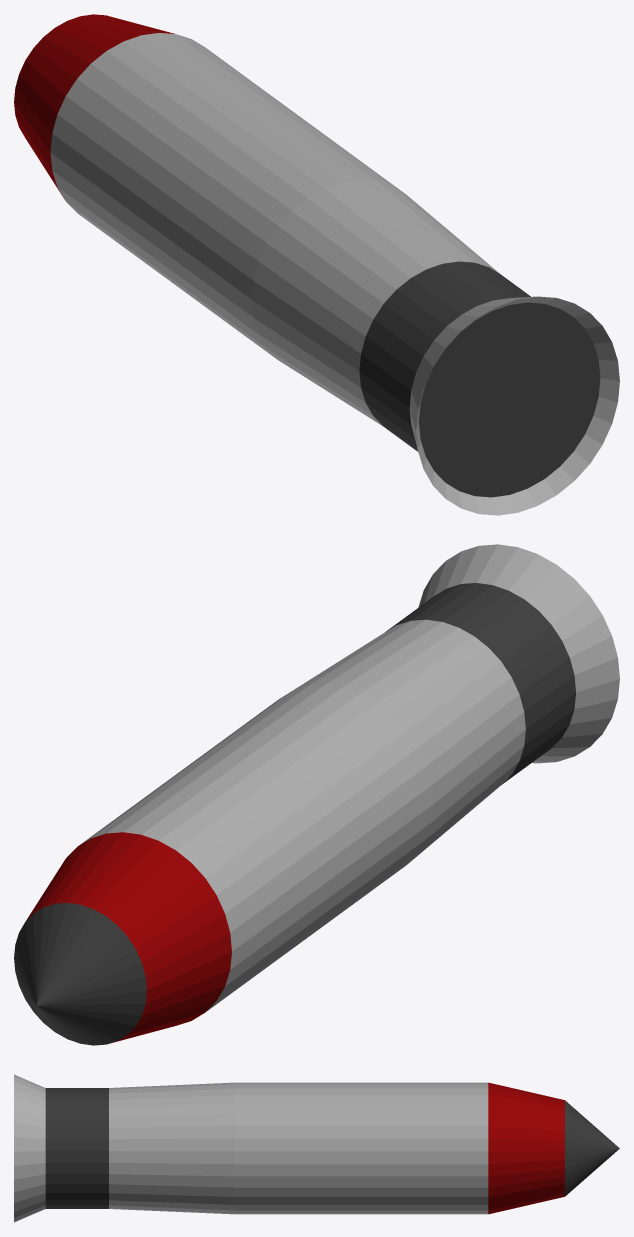
Rendered from missle.fbx.
3 renders of one model, top to bottom at view 1: azimuth 30°, elevation 25°; view 2: azimuth 150°, elevation 25°; view 3: azimuth 270°, elevation 25°, orthographic. The views are drawn at different scales.
Visible parts, largest first — view 1: Cylinder, Cylinder.004, Cylinder.003, Cylinder.002; view 2: Cylinder, Cylinder.002, Cylinder.001, Cylinder.003; view 3: Cylinder, Cylinder.002, Cylinder.003, Cylinder.001.
Boxes of the visible parts, left/top/right/bottom form: Cylinder: left=50, top=33, right=619, bottom=515; Cylinder.004: left=419, top=302, right=600, bottom=497; Cylinder.003: left=359, top=261, right=530, bottom=451; Cylinder.002: left=14, top=14, right=174, bottom=197; Cylinder: left=79, top=544, right=619, bottom=1011; Cylinder.002: left=26, top=832, right=231, bottom=1043; Cylinder.001: left=14, top=903, right=146, bottom=1045; Cylinder.003: left=386, top=583, right=575, bottom=784; Cylinder: left=14, top=1074, right=488, bottom=1222; Cylinder.002: left=488, top=1082, right=564, bottom=1214; Cylinder.003: left=45, top=1088, right=108, bottom=1208; Cylinder.001: left=565, top=1100, right=619, bottom=1196.
Size of the model in its own units: 225 by 225 by 918.
